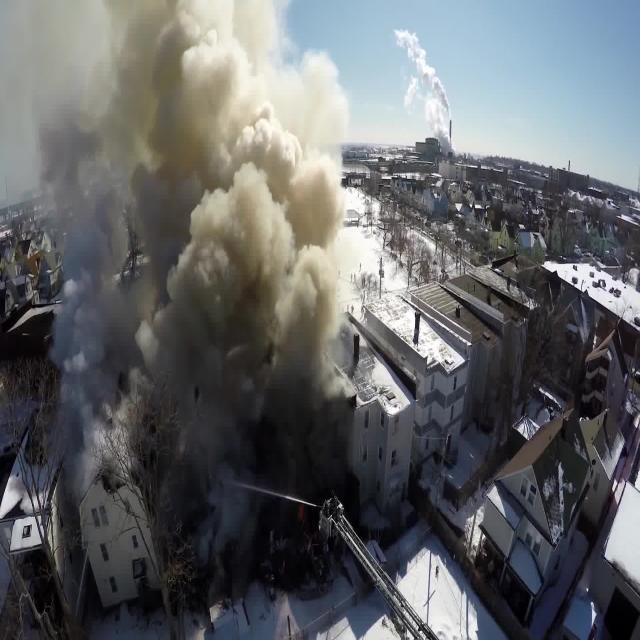Smoke: (156, 60, 332, 374), (16, 7, 154, 163), (57, 190, 152, 398)
